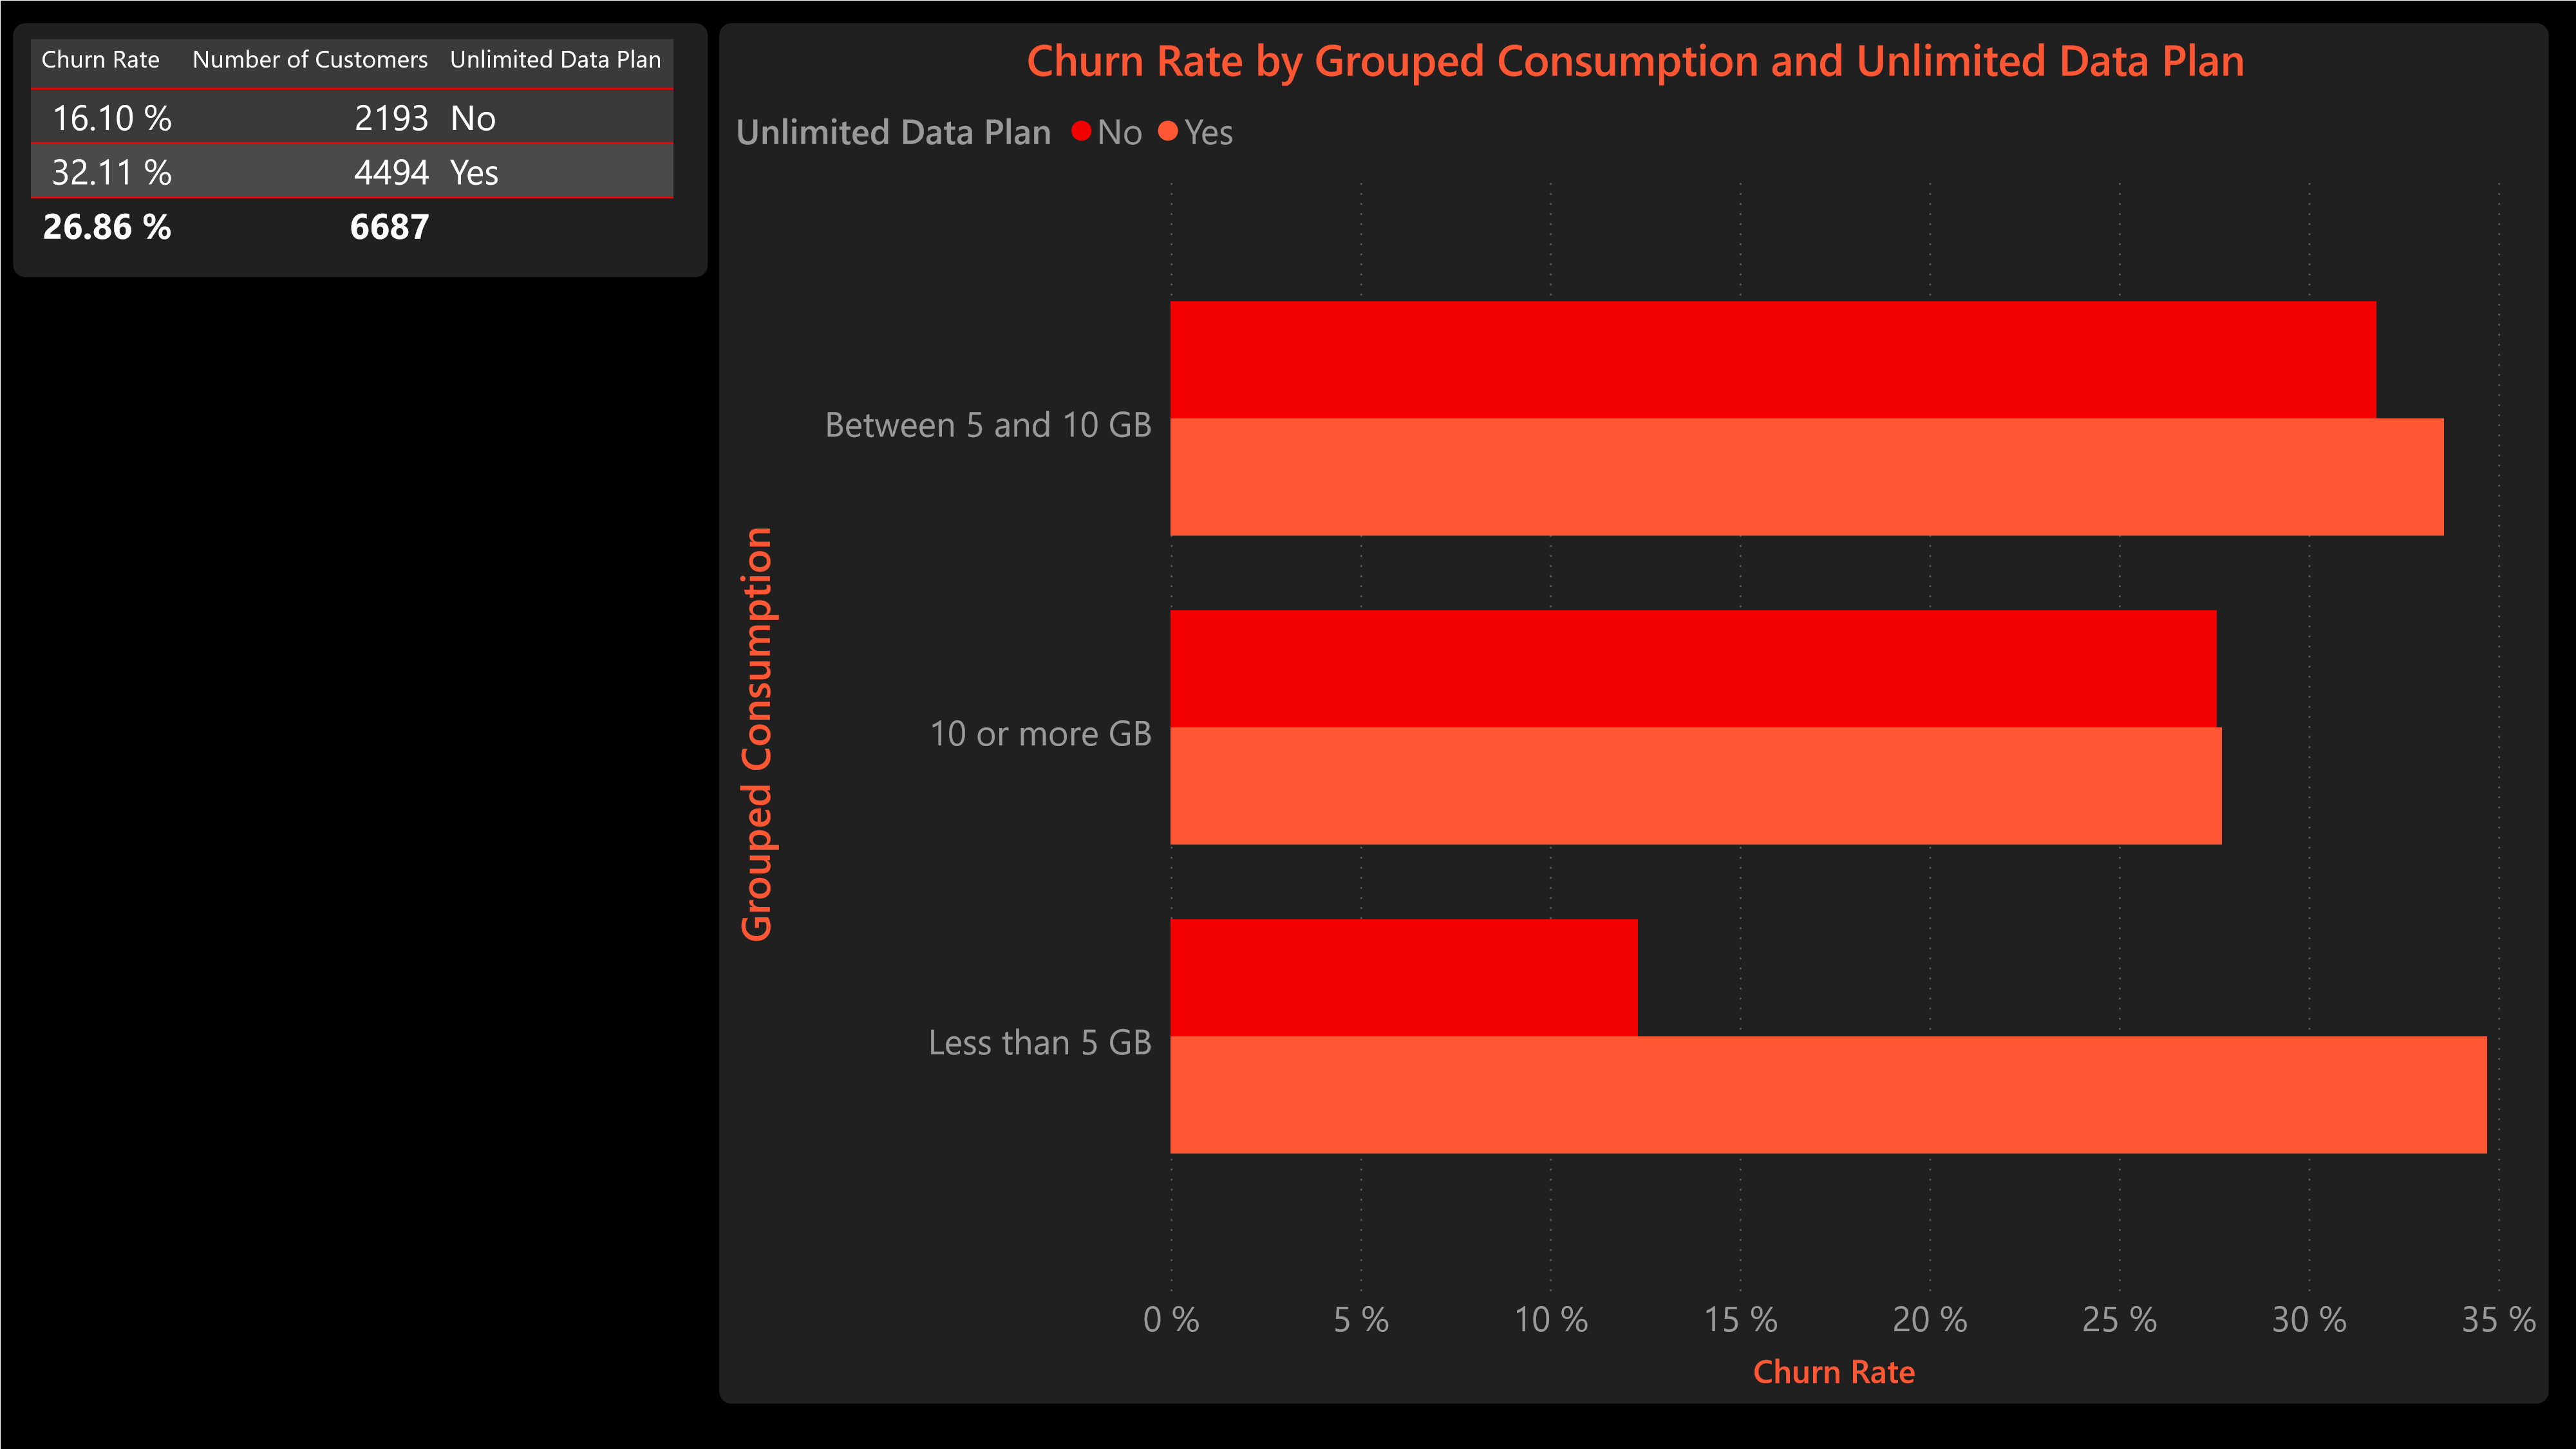

The dashboard page shown, as its layout file describes it:
{"tool":"powerbi","page":{"name":"Unlimited Plan","canvas":[1280,720],"ordinal":2},"visuals":[{"type":"tableEx","fields":{"Values":["Databel - Data.Churn Rate","Databel - Data.Number of Costumers","Databel - Data.Unlimited Data Plan"]},"box":[6.1,11.1,345.3,125.5],"z":0},{"type":"clusteredBarChart","fields":{"Category":["Databel - Data.Grouped Consumption"],"Y":["Databel - Data.Churn Rate"],"Series":["Databel - Data.Unlimited Data Plan"]},"box":[357.4,11.1,908.2,658.1],"z":1000}]}

Visuals, with their boxes in screenshot pixels (x1, y1, x2, y2), scaled from the page's 1280x720 canvas onto the 2576x1449 screenshot:
tableEx - Databel - Data.Churn Rate x Databel - Data.Number of Costumers: box(12, 23, 707, 275)
clusteredBarChart - Databel - Data.Grouped Consumption x Databel - Data.Churn Rate: box(719, 23, 2547, 1347)
